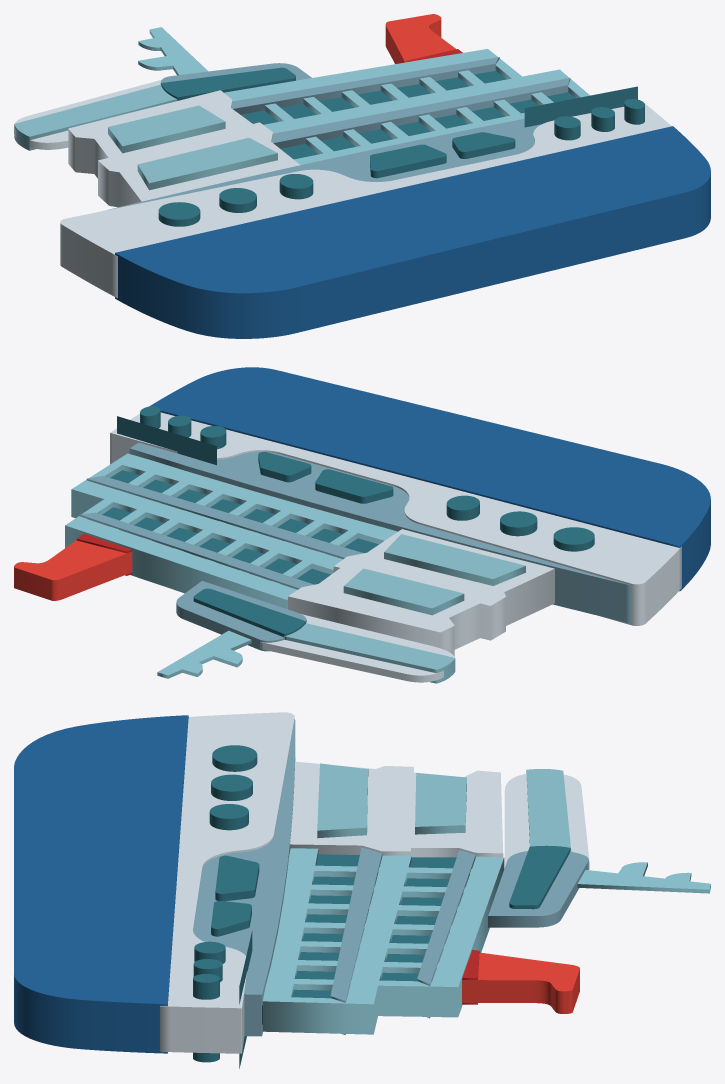
The model's file is emoji_u1f6f3.glb.
3 renders of one model, top to bottom at view 1: azimuth 30°, elevation 25°; view 2: azimuth 150°, elevation 25°; view 3: azimuth 270°, elevation 25°, orthographic. The views are drawn at different scales.
Visible parts, largest first — view 1: emoji_u1f6f3; view 2: emoji_u1f6f3; view 3: emoji_u1f6f3.
Boxes of the visible parts, left/top/right/bottom form: emoji_u1f6f3: left=14, top=14, right=710, bottom=338; emoji_u1f6f3: left=14, top=367, right=710, bottom=683; emoji_u1f6f3: left=14, top=712, right=710, bottom=1068.
Size of the model in its own units: 0.0334 by 0.0044 by 0.0333.
